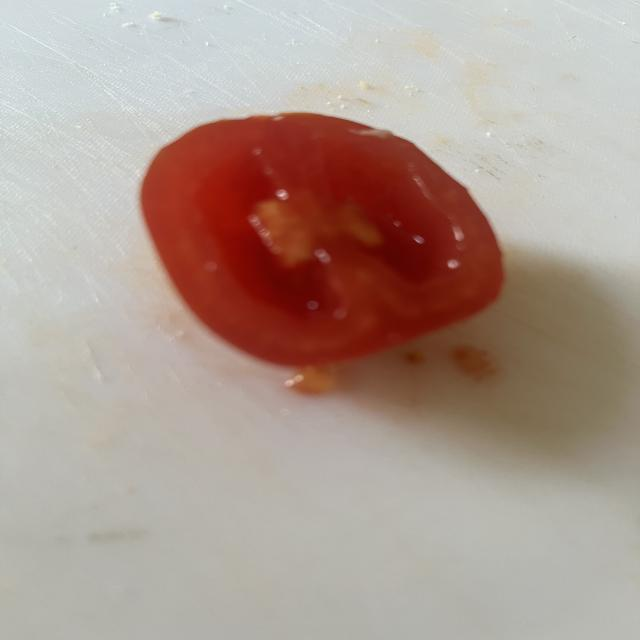sliced_tomato: (142, 113, 503, 367)
